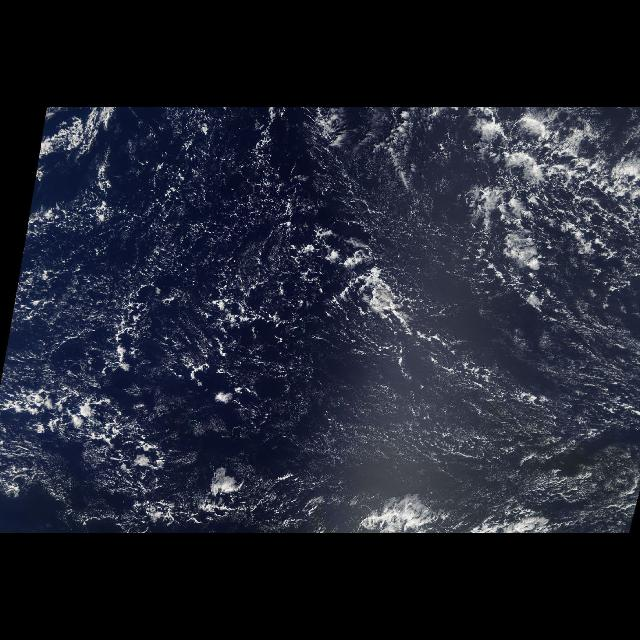Gravel: (13, 135, 290, 522)
Sugar: (312, 308, 628, 514)
